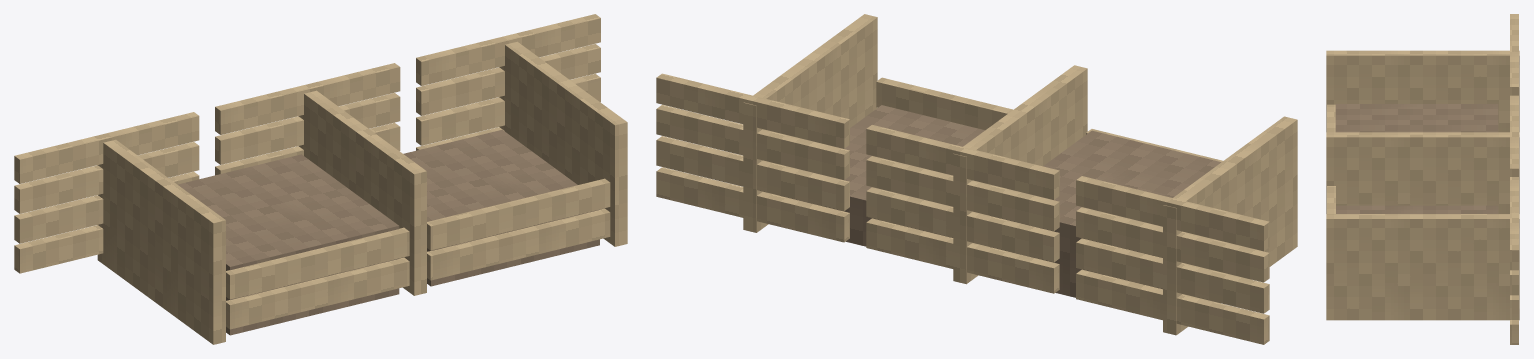
The model's file is pixel-modern-farm-compost-bay-0d01cf96__29148.glb.
3 views of the same model, side by side, from view 1: azimuth 30°, elevation 25°; view 2: azimuth 150°, elevation 25°; view 3: azimuth 270°, elevation 25° (orthographic). The views are drawn at different scales.
Visible parts, largest first — view 1: compost-bay; view 2: compost-bay; view 3: compost-bay.
Boxes of the visible parts, <box> form: compost-bay: <box>14,14,627,344</box>; compost-bay: <box>656,14,1297,344</box>; compost-bay: <box>1326,14,1519,344</box>.
Bounding box in the file's own units: 5.5 × 1.13 × 1.9.
Materials: 2 (2 with a texture image).
